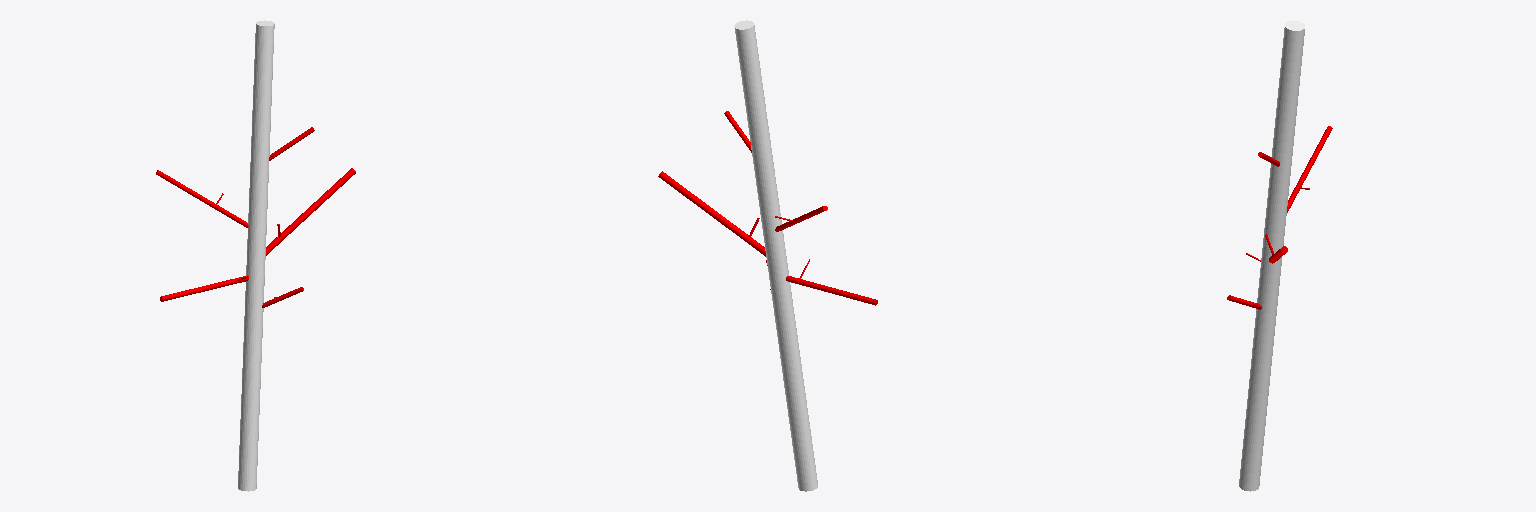
robot.urdf — tree_179.urdf:
<?xml version='1.0' encoding='UTF-8'?>
<robot name="tree_179.urdf">
  <link name="branch_0">
    <inertial>
      <origin xyz="0.0 0.0 0.0" rpy="0.0 -0.0 0.0"/>
      <mass value="0.1"/>
      <inertia ixx="0.001" ixy="0.0" ixz="0.0" iyy="0.001" iyz="0.0" izz="0.001"/>
    </inertial>
    <visual name="branch_0_visual">
      <geometry>
        <cylinder radius="0.14012211214611228" length="7.267135085550711"/>
      </geometry>
      <material name="branch_material"/>
      <origin xyz="0.3352041126659965 0.3123578336653126 3.604564311329492" rpy="2.0305941825925676e-17 0.12643312607191173 0.7501323371661478"/>
    </visual>
    <collision name="branch_0_collision">
      <geometry>
        <cylinder radius="0.14012211214611228" length="7.267135085550711"/>
      </geometry>
      <origin xyz="0.3352041126659965 0.3123578336653126 3.604564311329492" rpy="2.0305941825925676e-17 0.12643312607191173 0.7501323371661478"/>
    </collision>
  </link>
  <link name="branch_1">
    <inertial>
      <origin xyz="0.0 0.0 0.0" rpy="0.0 -0.0 0.0"/>
      <mass value="0.1"/>
      <inertia ixx="0.001" ixy="0.0" ixz="0.0" iyy="0.001" iyz="0.0" izz="0.001"/>
    </inertial>
    <visual name="branch_1_visual">
      <geometry>
        <cylinder radius="0.04126578895047265" length="1.5910600844091203"/>
      </geometry>
      <material name="semantic_material"/>
      <origin xyz="0.0 0.0 0.0" rpy="0.0 -0.0 0.0"/>
    </visual>
    <collision name="branch_1_collision">
      <geometry>
        <cylinder radius="0.04126578895047265" length="1.5910600844091203"/>
      </geometry>
      <origin xyz="0.0 0.0 0.0" rpy="0.0 -0.0 0.0"/>
    </collision>
  </link>
  <link name="branch_2">
    <inertial>
      <origin xyz="0.0 0.0 0.0" rpy="0.0 -0.0 0.0"/>
      <mass value="0.1"/>
      <inertia ixx="0.001" ixy="0.0" ixz="0.0" iyy="0.001" iyz="0.0" izz="0.001"/>
    </inertial>
    <visual name="branch_2_visual">
      <geometry>
        <cylinder radius="0.011270197103982181" length="0.38564117047273416"/>
      </geometry>
      <material name="semantic_material"/>
      <origin xyz="0.0 0.0 0.0" rpy="0.0 -0.0 0.0"/>
    </visual>
    <collision name="branch_2_collision">
      <geometry>
        <cylinder radius="0.011270197103982181" length="0.38564117047273416"/>
      </geometry>
      <origin xyz="0.0 0.0 0.0" rpy="0.0 -0.0 0.0"/>
    </collision>
  </link>
  <link name="branch_3">
    <inertial>
      <origin xyz="0.0 0.0 0.0" rpy="0.0 -0.0 0.0"/>
      <mass value="0.1"/>
      <inertia ixx="0.001" ixy="0.0" ixz="0.0" iyy="0.001" iyz="0.0" izz="0.001"/>
    </inertial>
    <visual name="branch_3_visual">
      <geometry>
        <cylinder radius="0.04912467921949216" length="2.0471151032871453"/>
      </geometry>
      <material name="semantic_material"/>
      <origin xyz="0.0 0.0 0.0" rpy="0.0 -0.0 0.0"/>
    </visual>
    <collision name="branch_3_collision">
      <geometry>
        <cylinder radius="0.04912467921949216" length="2.0471151032871453"/>
      </geometry>
      <origin xyz="0.0 0.0 0.0" rpy="0.0 -0.0 0.0"/>
    </collision>
  </link>
  <link name="branch_4">
    <inertial>
      <origin xyz="0.0 0.0 0.0" rpy="0.0 -0.0 0.0"/>
      <mass value="0.1"/>
      <inertia ixx="0.001" ixy="0.0" ixz="0.0" iyy="0.001" iyz="0.0" izz="0.001"/>
    </inertial>
    <visual name="branch_4_visual">
      <geometry>
        <cylinder radius="0.01740792790109847" length="0.34175542082009996"/>
      </geometry>
      <material name="semantic_material"/>
      <origin xyz="0.0 0.0 0.0" rpy="0.0 -0.0 0.0"/>
    </visual>
    <collision name="branch_4_collision">
      <geometry>
        <cylinder radius="0.01740792790109847" length="0.34175542082009996"/>
      </geometry>
      <origin xyz="0.0 0.0 0.0" rpy="0.0 -0.0 0.0"/>
    </collision>
  </link>
  <link name="branch_5">
    <inertial>
      <origin xyz="0.0 0.0 0.0" rpy="0.0 -0.0 0.0"/>
      <mass value="0.1"/>
      <inertia ixx="0.001" ixy="0.0" ixz="0.0" iyy="0.001" iyz="0.0" izz="0.001"/>
    </inertial>
    <visual name="branch_5_visual">
      <geometry>
        <cylinder radius="0.035906124754117794" length="0.8515828347427332"/>
      </geometry>
      <material name="semantic_material"/>
      <origin xyz="0.0 0.0 0.0" rpy="0.0 -0.0 0.0"/>
    </visual>
    <collision name="branch_5_collision">
      <geometry>
        <cylinder radius="0.035906124754117794" length="0.8515828347427332"/>
      </geometry>
      <origin xyz="0.0 0.0 0.0" rpy="0.0 -0.0 0.0"/>
    </collision>
  </link>
  <link name="branch_6">
    <inertial>
      <origin xyz="0.0 0.0 0.0" rpy="0.0 -0.0 0.0"/>
      <mass value="0.1"/>
      <inertia ixx="0.001" ixy="0.0" ixz="0.0" iyy="0.001" iyz="0.0" izz="0.001"/>
    </inertial>
    <visual name="branch_6_visual">
      <geometry>
        <cylinder radius="0.013604454950521651" length="0.10384539047011666"/>
      </geometry>
      <material name="semantic_material"/>
      <origin xyz="0.0 0.0 0.0" rpy="0.0 -0.0 0.0"/>
    </visual>
    <collision name="branch_6_collision">
      <geometry>
        <cylinder radius="0.013604454950521651" length="0.10384539047011666"/>
      </geometry>
      <origin xyz="0.0 0.0 0.0" rpy="0.0 -0.0 0.0"/>
    </collision>
  </link>
  <link name="branch_7">
    <inertial>
      <origin xyz="0.0 0.0 0.0" rpy="0.0 -0.0 0.0"/>
      <mass value="0.1"/>
      <inertia ixx="0.001" ixy="0.0" ixz="0.0" iyy="0.001" iyz="0.0" izz="0.001"/>
    </inertial>
    <visual name="branch_7_visual">
      <geometry>
        <cylinder radius="0.036508229191391094" length="0.9669227488130385"/>
      </geometry>
      <material name="semantic_material"/>
      <origin xyz="0.0 0.0 0.0" rpy="0.0 -0.0 0.0"/>
    </visual>
    <collision name="branch_7_collision">
      <geometry>
        <cylinder radius="0.036508229191391094" length="0.9669227488130385"/>
      </geometry>
      <origin xyz="0.0 0.0 0.0" rpy="0.0 -0.0 0.0"/>
    </collision>
  </link>
  <link name="branch_8">
    <inertial>
      <origin xyz="0.0 0.0 0.0" rpy="0.0 -0.0 0.0"/>
      <mass value="0.1"/>
      <inertia ixx="0.001" ixy="0.0" ixz="0.0" iyy="0.001" iyz="0.0" izz="0.001"/>
    </inertial>
    <visual name="branch_8_visual">
      <geometry>
        <cylinder radius="0.01" length="0.2857053179687971"/>
      </geometry>
      <material name="semantic_material"/>
      <origin xyz="0.0 0.0 0.0" rpy="0.0 -0.0 0.0"/>
    </visual>
    <collision name="branch_8_collision">
      <geometry>
        <cylinder radius="0.01" length="0.2857053179687971"/>
      </geometry>
      <origin xyz="0.0 0.0 0.0" rpy="0.0 -0.0 0.0"/>
    </collision>
  </link>
  <link name="branch_9">
    <inertial>
      <origin xyz="0.0 0.0 0.0" rpy="0.0 -0.0 0.0"/>
      <mass value="0.1"/>
      <inertia ixx="0.001" ixy="0.0" ixz="0.0" iyy="0.001" iyz="0.0" izz="0.001"/>
    </inertial>
    <visual name="branch_9_visual">
      <geometry>
        <cylinder radius="0.037430375675430234" length="1.7730899101098554"/>
      </geometry>
      <material name="semantic_material"/>
      <origin xyz="0.0 0.0 0.0" rpy="0.0 -0.0 0.0"/>
    </visual>
    <collision name="branch_9_collision">
      <geometry>
        <cylinder radius="0.037430375675430234" length="1.7730899101098554"/>
      </geometry>
      <origin xyz="0.0 0.0 0.0" rpy="0.0 -0.0 0.0"/>
    </collision>
  </link>
  <link name="branch_10">
    <inertial>
      <origin xyz="0.0 0.0 0.0" rpy="0.0 -0.0 0.0"/>
      <mass value="0.1"/>
      <inertia ixx="0.001" ixy="0.0" ixz="0.0" iyy="0.001" iyz="0.0" izz="0.001"/>
    </inertial>
    <visual name="branch_10_visual">
      <geometry>
        <cylinder radius="0.011579952604585367" length="0.2913364684258221"/>
      </geometry>
      <material name="semantic_material"/>
      <origin xyz="0.0 0.0 0.0" rpy="0.0 -0.0 0.0"/>
    </visual>
    <collision name="branch_10_collision">
      <geometry>
        <cylinder radius="0.011579952604585367" length="0.2913364684258221"/>
      </geometry>
      <origin xyz="0.0 0.0 0.0" rpy="0.0 -0.0 0.0"/>
    </collision>
  </link>
  <joint name="joint_0_1" type="fixed">
    <parent link="branch_0"/>
    <child link="branch_1"/>
    <axis xyz="1. 0. 0."/>
    <origin xyz="-0.4891815867688798 0.30579263740673457 3.279691687731229" rpy="1.723816233451304 1.48082630939058 -1.4443397530878639"/>
  </joint>
  <joint name="joint_0_3" type="fixed">
    <parent link="branch_0"/>
    <child link="branch_3"/>
    <axis xyz="1. 0. 0."/>
    <origin xyz="1.2189787098418141 0.3936226059116869 4.0273149552783805" rpy="-0.16610495125937094 1.0563519667923786 -0.09212476826630304"/>
  </joint>
  <joint name="joint_0_5" type="fixed">
    <parent link="branch_0"/>
    <child link="branch_5"/>
    <axis xyz="1. 0. 0."/>
    <origin xyz="0.5275778939956871 -0.01417243540151376 2.983671808634672" rpy="-0.2510911681108522 1.0385218103604068 -1.0461427559499024"/>
  </joint>
  <joint name="joint_0_7" type="fixed">
    <parent link="branch_0"/>
    <child link="branch_7"/>
    <axis xyz="1. 0. 0."/>
    <origin xyz="0.8486749860470119 0.2956668018912743 5.279498419309502" rpy="-0.21206791890790902 0.9843285439835335 -0.602303252597357"/>
  </joint>
  <joint name="joint_0_9" type="fixed">
    <parent link="branch_0"/>
    <child link="branch_9"/>
    <axis xyz="1. 0. 0."/>
    <origin xyz="-0.2699282167681084 0.7239597606630748 4.469830745196941" rpy="0.2136846627697164 0.9810266605633352 2.8636013084270084"/>
  </joint>
  <joint name="joint_1_2" type="fixed">
    <parent link="branch_0"/>
    <child link="branch_2"/>
    <axis xyz="1. 0. 0."/>
    <origin xyz="-0.008529405739200776 0.12803165087897317 3.385018323071865" rpy="1.032560150463536 0.018147688609528735 0.027359607424993035"/>
  </joint>
  <joint name="joint_3_4" type="fixed">
    <parent link="branch_0"/>
    <child link="branch_4"/>
    <axis xyz="1. 0. 0."/>
    <origin xyz="0.7153260727777481 0.28836442777281807 3.9256901553529544" rpy="-0.3114019642229795 0.35653038984297947 -2.9882041680783944"/>
  </joint>
  <joint name="joint_5_6" type="fixed">
    <parent link="branch_0"/>
    <child link="branch_6"/>
    <axis xyz="1. 0. 0."/>
    <origin xyz="0.5109035635217728 0.07162222868083591 2.954155785793641" rpy="1.4375497222980604 0.5264713451604046 2.4767400676371985"/>
  </joint>
  <joint name="joint_7_8" type="fixed">
    <parent link="branch_0"/>
    <child link="branch_8"/>
    <axis xyz="1. 0. 0."/>
    <origin xyz="0.5866827742671689 0.25261781038310205 5.1926394263424145" rpy="-1.08608389264598 0.49017802826733864 2.995893766148741"/>
  </joint>
  <joint name="joint_9_10" type="fixed">
    <parent link="branch_0"/>
    <child link="branch_10"/>
    <axis xyz="1. 0. 0."/>
    <origin xyz="-0.05164360297241284 0.7423705227362328 4.435016021870765" rpy="-1.17952583860364 0.6423876548002541 -0.7077857735645752"/>
  </joint>
  <material name="branch_material">
    <color rgba="1. 1. 1. 1."/>
  </material>
  <material name="semantic_material">
    <color rgba="1. 0. 0. 1."/>
  </material>
</robot>

--- What the picture shows (computed from the rendered views, not written in the file) ---
Views: 3 orthographic renders of the robot side by side, from view 1: azimuth 30°, elevation 25°; view 2: azimuth 150°, elevation 25°; view 3: azimuth 270°, elevation 25°.
Robot: tree_179.urdf — 11 links, 10 joints (10 fixed); root link branch_0; default pose: all joints at 0.
Links seen in each view (by area): view 1: branch_0, branch_3, branch_9; view 2: branch_0, branch_3, branch_1; view 3: branch_0.
Link boxes in pixels (box(x1,y1,x2,y2)): branch_0: box(238, 20, 274, 491); branch_3: box(266, 168, 355, 255); branch_9: box(156, 170, 248, 227); branch_0: box(734, 20, 817, 491); branch_3: box(658, 171, 765, 256); branch_1: box(786, 276, 877, 305); branch_0: box(1239, 20, 1304, 491).
Bounding box of the posed robot: 3.42 × 1.43 × 7.24 m (x, y, z).
Geometry: primitives only (box / cylinder / sphere), no mesh files.